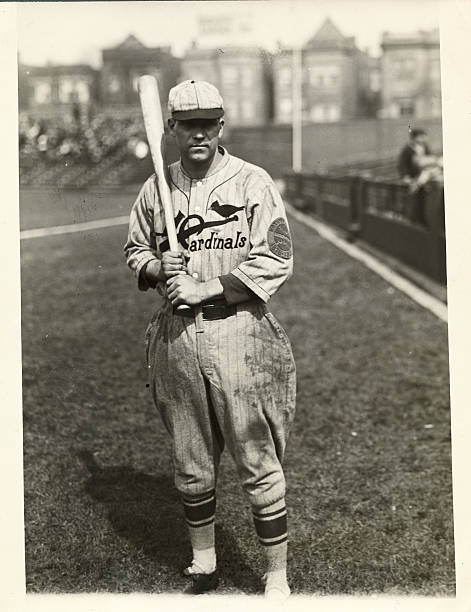bita: (136, 68, 191, 294)
